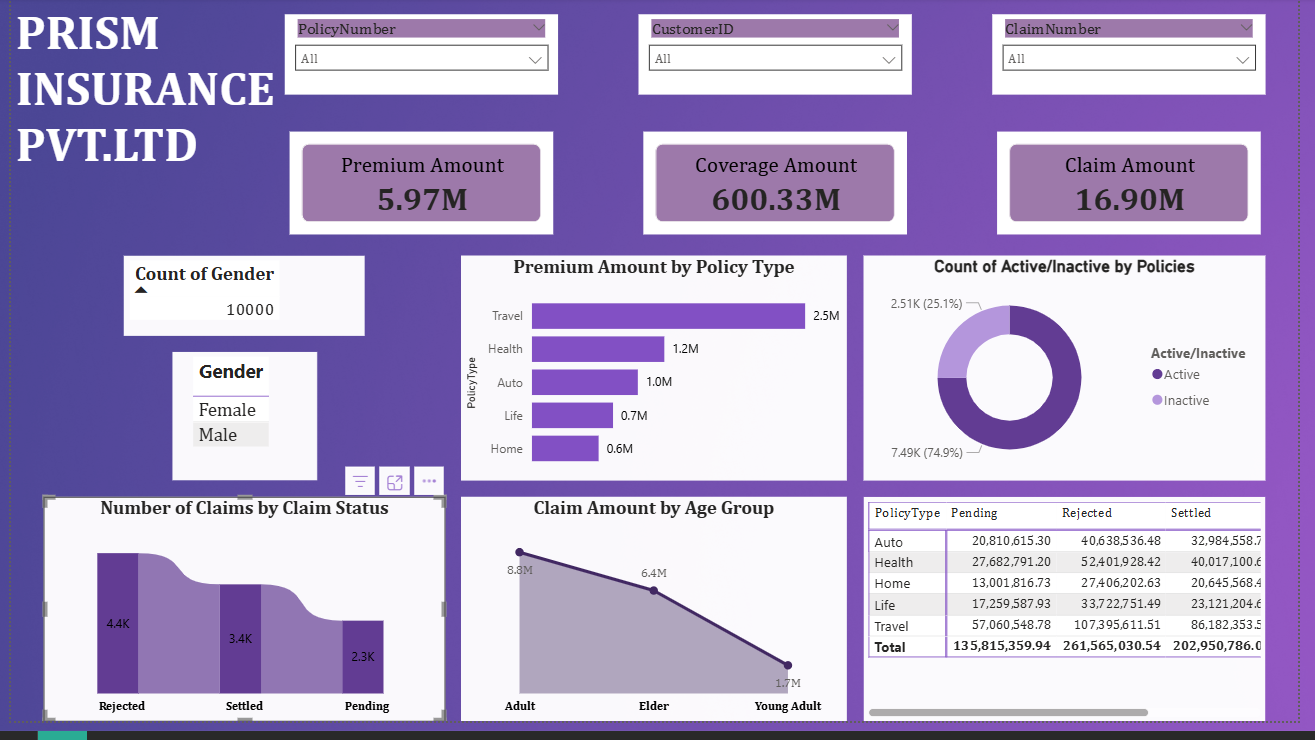

What the dashboard file says about the page in this screenshot:
{"tool":"powerbi","page":{"name":"Page 1","canvas":[1280,720],"ordinal":0},"visuals":[{"type":"slicer","fields":{"Values":["InsuranceData.PolicyNumber"]},"box":[272,16,272,80],"z":0},{"type":"slicer","fields":{"Values":["InsuranceData.ClaimNumber"]},"box":[976,16,272,80],"z":1000},{"type":"slicer","fields":{"Values":["InsuranceData.CustomerID"]},"box":[624,16,272,80],"z":2000},{"type":"textbox","box":[0,0,272,208],"z":3000},{"type":"cardVisual","fields":{"Data":["Sum(InsuranceData.PremiumAmount)"]},"box":[272,128,272,112],"z":4000},{"type":"cardVisual","fields":{"Data":["Sum(InsuranceData.CoverageAmount)"]},"box":[624,128,272,112],"z":5000},{"type":"cardVisual","fields":{"Data":["Sum(InsuranceData.ClaimAmount)"]},"box":[976,128,272,112],"z":6000},{"type":"ribbonChart","title":"Number of Claims by Claim Status","fields":{"Category":["InsuranceData.ClaimStatus"],"Y":["CountNonNull(InsuranceData.ClaimNumber)"]},"box":[32,496,400,224],"z":7000},{"type":"barChart","title":"Premium Amount by Policy Type","fields":{"Category":["InsuranceData.PolicyType"],"Y":["Sum(InsuranceData.PremiumAmount)"]},"box":[448,256,384,224],"z":8000},{"type":"lineChart","title":"Claim Amount by Age Group","fields":{"Category":["InsuranceData.Age Group"],"Y":["Sum(InsuranceData.ClaimAmount)"]},"box":[448,496,384,224],"z":9000},{"type":"tableEx","fields":{"Values":["CountNonNull(InsuranceData.Gender)"]},"box":[112,256,240,80],"z":9001},{"type":"donutChart","title":"Count of Active/Inactive by Policies","fields":{"Category":["InsuranceData.Active/Inactive"],"Y":["CountNonNull(InsuranceData.Active/Inactive)"]},"box":[848,256,400,224],"z":9002},{"type":"pivotTable","fields":{"Rows":["InsuranceData.PolicyType"],"Values":["Sum(InsuranceData.CoverageAmount)"],"Columns":["InsuranceData.ClaimStatus"]},"box":[848,496,400,224],"z":9003},{"type":"tableEx","fields":{"Values":["InsuranceData.Gender"]},"box":[160,352,144,128],"z":9004}]}

Visuals, with their boxes in screenshot pixels (x1, y1, x2, y2), scaled from the page's 1280x720 canvas onto the 1315x740 screenshot:
slicer - InsuranceData.PolicyNumber: box(279, 16, 559, 99)
slicer - InsuranceData.ClaimNumber: box(1003, 16, 1282, 99)
slicer - InsuranceData.CustomerID: box(641, 16, 920, 99)
textbox: box(0, 0, 279, 214)
cardVisual - Sum(InsuranceData.PremiumAmount): box(279, 132, 559, 247)
cardVisual - Sum(InsuranceData.CoverageAmount): box(641, 132, 920, 247)
cardVisual - Sum(InsuranceData.ClaimAmount): box(1003, 132, 1282, 247)
"Number of Claims by Claim Status" ribbonChart: box(33, 510, 444, 739)
"Premium Amount by Policy Type" barChart: box(460, 263, 855, 493)
"Claim Amount by Age Group" lineChart: box(460, 510, 855, 739)
tableEx - CountNonNull(InsuranceData.Gender): box(115, 263, 362, 345)
"Count of Active/Inactive by Policies" donutChart: box(871, 263, 1282, 493)
pivotTable - InsuranceData.PolicyType x Sum(InsuranceData.CoverageAmount): box(871, 510, 1282, 739)
tableEx - InsuranceData.Gender: box(164, 362, 312, 493)
